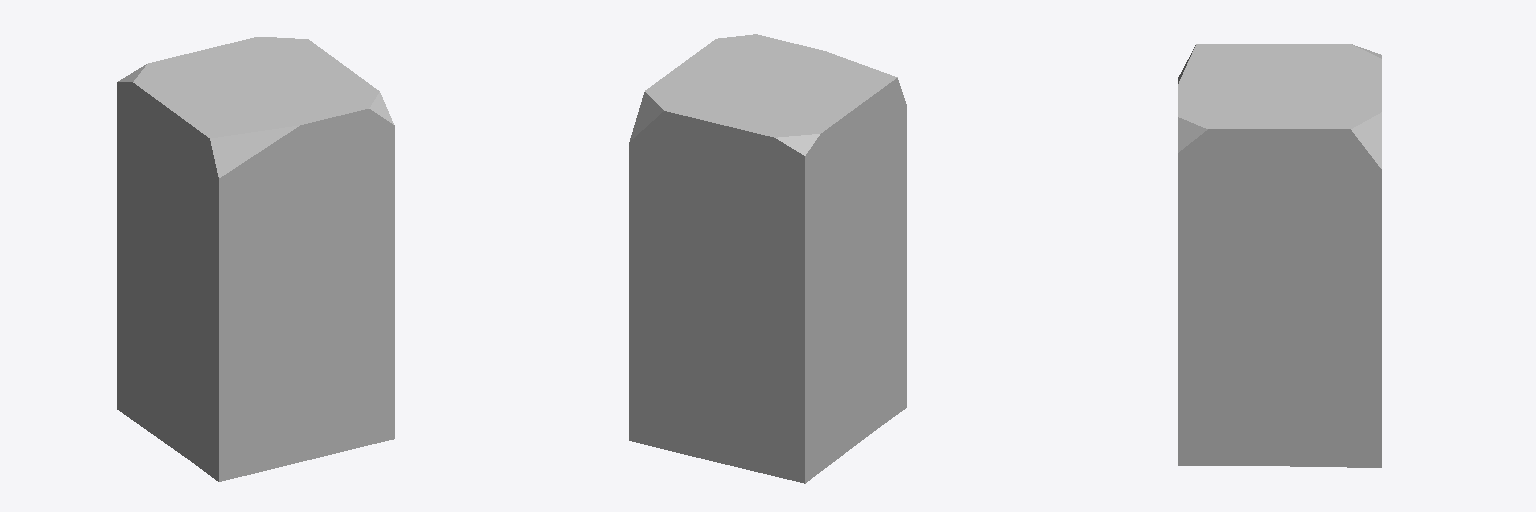
The model's file is Cliff_.obj.
3 renders of one model, left to right at view 1: azimuth 30°, elevation 25°; view 2: azimuth 150°, elevation 25°; view 3: azimuth 270°, elevation 25°, orthographic.
Parts seen in each view (by area): view 1: Cube.010_Cube.011; view 2: Cube.010_Cube.011; view 3: Cube.010_Cube.011.
Part boxes in pixels (bbox=[...]): Cube.010_Cube.011: bbox=[117, 37, 394, 481]; Cube.010_Cube.011: bbox=[629, 34, 906, 483]; Cube.010_Cube.011: bbox=[1178, 44, 1381, 467].
Bounding box in the file's own units: 2.13 × 3.92 × 2.13.